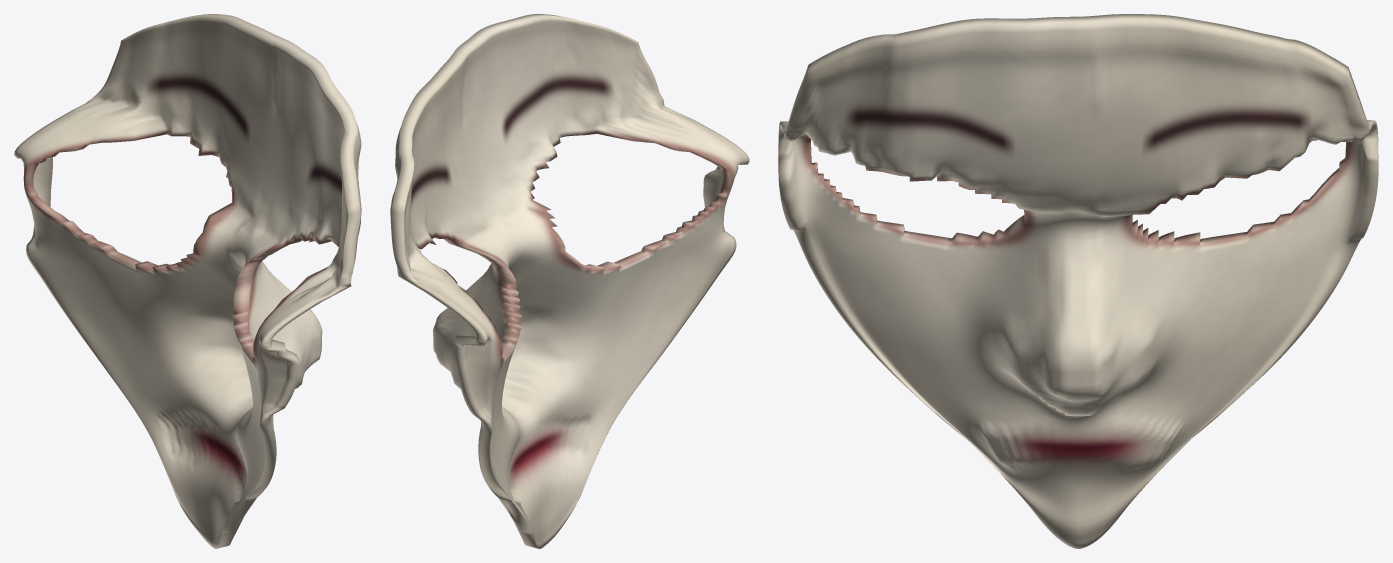
File: ep427_renegade_noh.glb
3 views of the same model, side by side, from view 1: azimuth 30°, elevation 25°; view 2: azimuth 150°, elevation 25°; view 3: azimuth 270°, elevation 25° (orthographic). The views are drawn at different scales.
Parts seen in each view (by area): view 1: geometry_0; view 2: geometry_0; view 3: geometry_0.
Boxes of the visible parts, <box> form: geometry_0: <box>14,14,361,548</box>; geometry_0: <box>390,14,749,548</box>; geometry_0: <box>778,14,1378,548</box>.
Size of the model in its own units: 3.37 by 8.57 by 8.24.
1 material, 1 textured.
